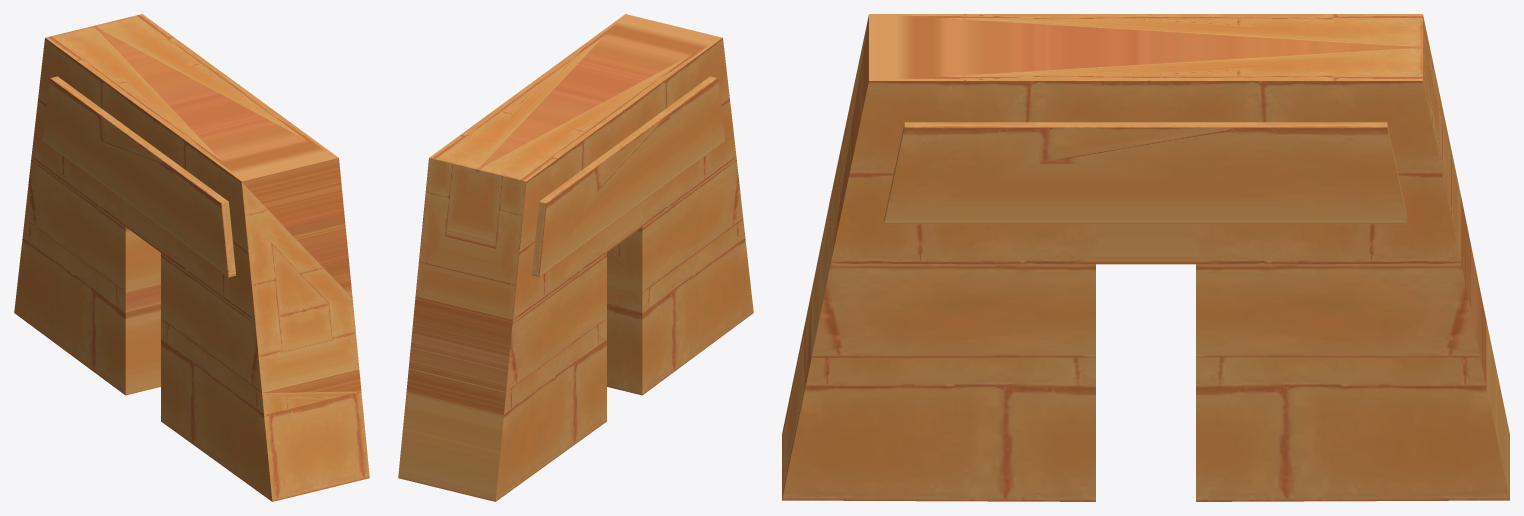
The model's file is pm-temple-arch-01.glb.
The picture shows the model from 3 angles, left to right: view 1: azimuth 30°, elevation 25°; view 2: azimuth 150°, elevation 25°; view 3: azimuth 270°, elevation 25°; orthographic projection. The views are drawn at different scales.
Visible parts, largest first — view 1: TempleArch01_Art; view 2: TempleArch01_Art; view 3: TempleArch01_Art.
Boxes of the visible parts, x1,y1,x2,y2 form: TempleArch01_Art: (14, 14, 369, 501); TempleArch01_Art: (398, 14, 753, 501); TempleArch01_Art: (782, 14, 1509, 501).
Size of the model in its own units: 7.35 by 18.6 by 29.14.
1 material, 1 textured.
